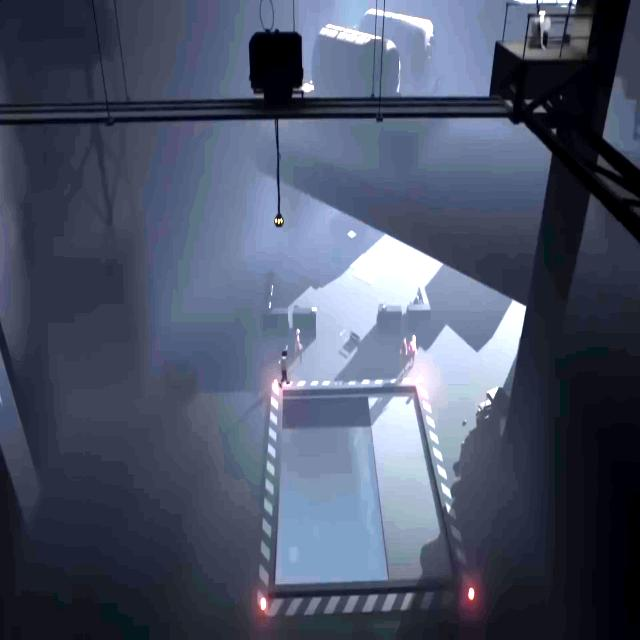boy: (279, 345, 290, 388)
